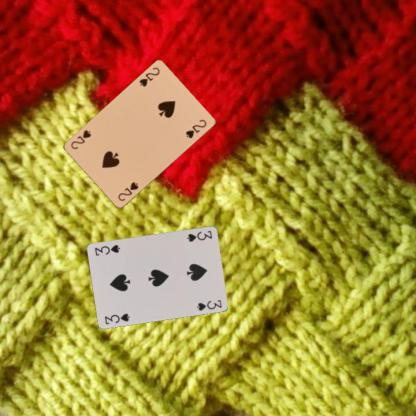2s: (136, 65, 162, 88), (115, 180, 140, 202)
3s: (102, 310, 131, 326), (184, 228, 214, 242)
